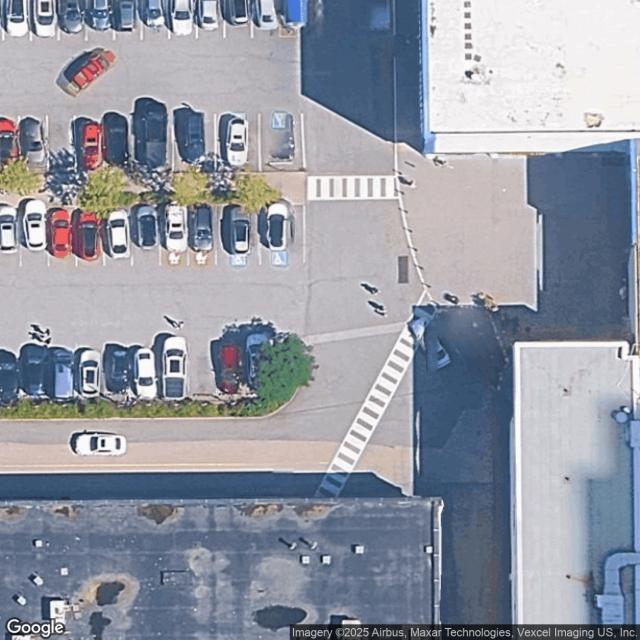car: (137, 100, 169, 168), (222, 204, 253, 255), (215, 338, 243, 393), (248, 336, 274, 394), (180, 105, 205, 162), (18, 117, 45, 169), (164, 338, 186, 398), (263, 204, 291, 250), (226, 115, 251, 165), (191, 202, 215, 252), (22, 343, 46, 393), (107, 344, 131, 393), (107, 208, 130, 259), (78, 121, 102, 169), (26, 198, 47, 252), (54, 346, 75, 399), (79, 206, 98, 262), (106, 113, 126, 166), (136, 348, 157, 398), (51, 206, 71, 258), (165, 205, 187, 250), (81, 346, 100, 398), (136, 207, 158, 251), (34, 1, 58, 38), (1, 348, 18, 399), (0, 118, 17, 168), (60, 3, 86, 35), (2, 205, 18, 255), (6, 3, 29, 37), (89, 2, 115, 32), (254, 0, 279, 29), (141, 0, 165, 29), (173, 0, 193, 34), (226, 1, 250, 27), (200, 1, 220, 32), (116, 3, 138, 31)
lot_boundary: (1, 1, 306, 422)
objects: (0, 352, 304, 419), (0, 171, 306, 204), (281, 0, 305, 35)
stall: (255, 205, 305, 266), (214, 114, 260, 173), (128, 117, 172, 173), (170, 116, 214, 171), (260, 113, 302, 169), (215, 206, 255, 264), (212, 337, 246, 399), (102, 339, 135, 402), (99, 208, 133, 268), (20, 341, 52, 402), (247, 336, 280, 395), (71, 116, 105, 173), (73, 205, 102, 268), (130, 209, 160, 269), (21, 203, 49, 267), (160, 207, 190, 266), (158, 338, 188, 397), (99, 117, 130, 174), (16, 116, 47, 172), (134, 339, 162, 399), (46, 115, 73, 175), (49, 206, 75, 268), (188, 337, 214, 397), (190, 207, 216, 266), (76, 339, 102, 398), (52, 340, 76, 400), (0, 204, 19, 266), (1, 340, 20, 400), (57, 0, 86, 39), (85, 0, 114, 39), (4, 0, 32, 39), (0, 116, 19, 172), (142, 0, 170, 38), (114, 1, 142, 38), (170, 1, 198, 37), (33, 0, 58, 40), (197, 1, 225, 36), (252, 0, 280, 35), (226, 1, 252, 36)
